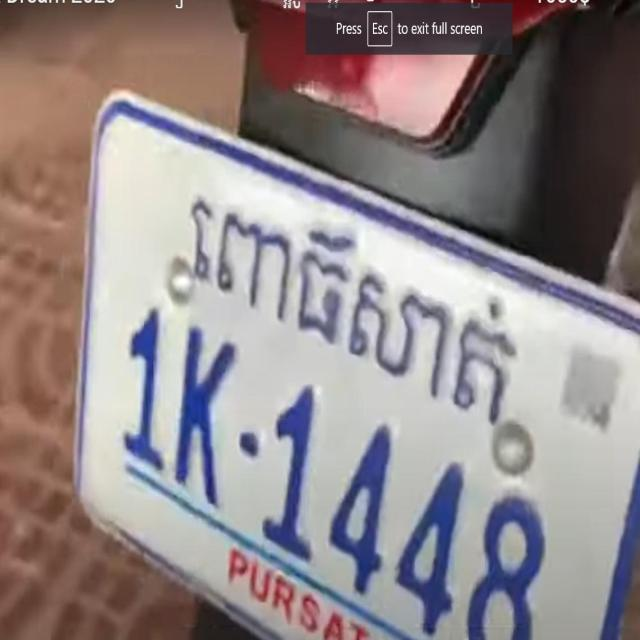Pursat: (192, 190, 516, 426)
